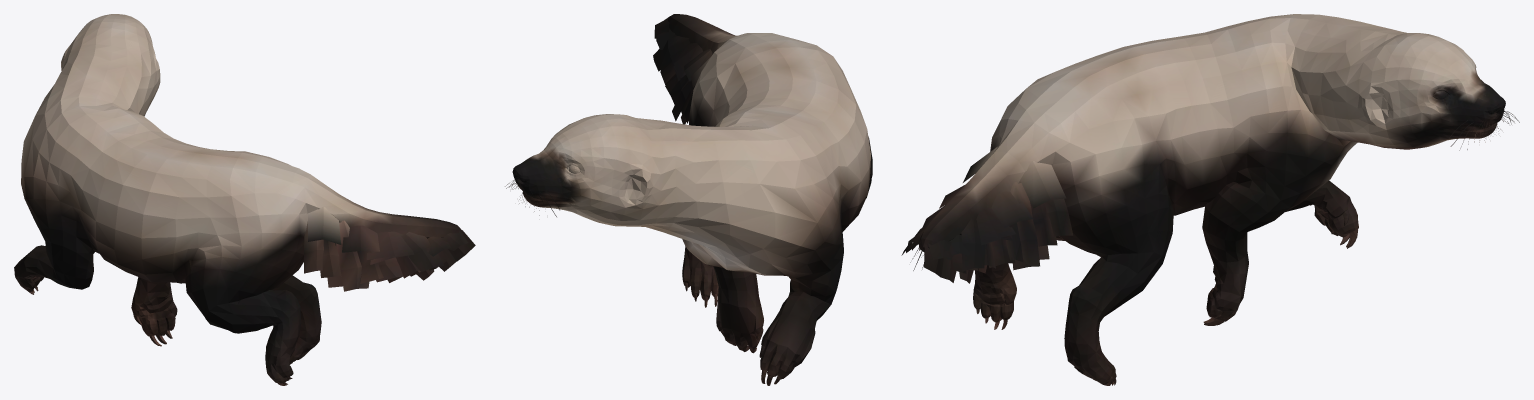
Rendered from badger.mesh.glb.
The picture shows the model from 3 angles, left to right: view 1: azimuth 30°, elevation 25°; view 2: azimuth 150°, elevation 25°; view 3: azimuth 270°, elevation 25°; orthographic projection. The views are drawn at different scales.
Parts seen in each view (by area): view 1: root; view 2: root; view 3: root.
Boxes of the visible parts, left/top/right/bottom form: root: left=14, top=14, right=475, bottom=385; root: left=505, top=14, right=872, bottom=385; root: left=901, top=14, right=1519, bottom=385.
Size of the model in its own units: 0.3767 by 0.3187 by 0.5534.
1 material, 1 textured.
